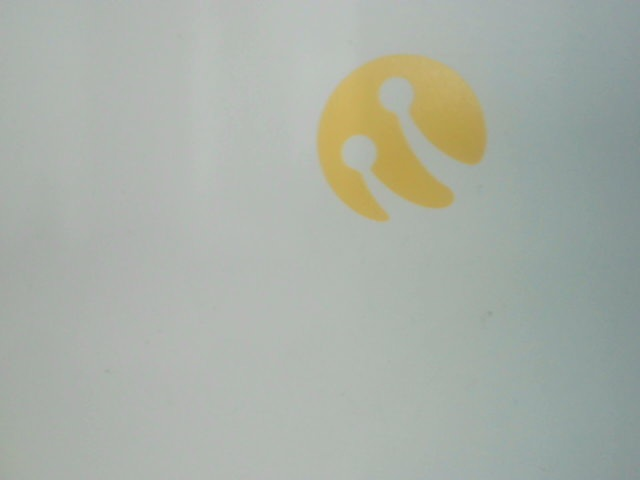AV_H3600Yellow: (304, 46, 505, 228)
